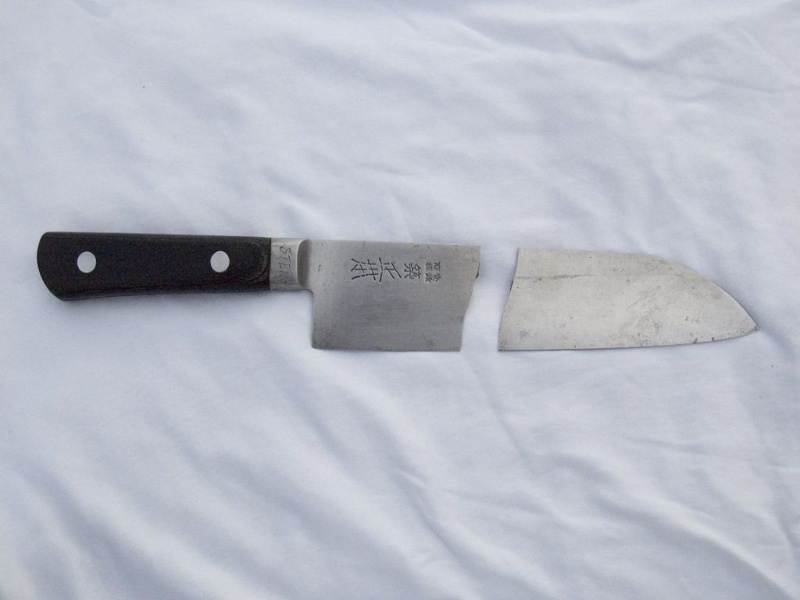wine: (3, 20, 799, 600)
